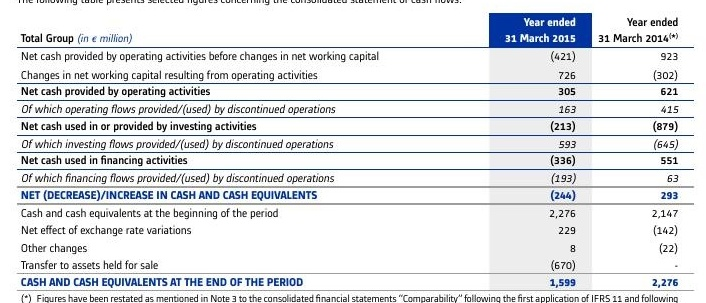table: (0, 0, 706, 303)
